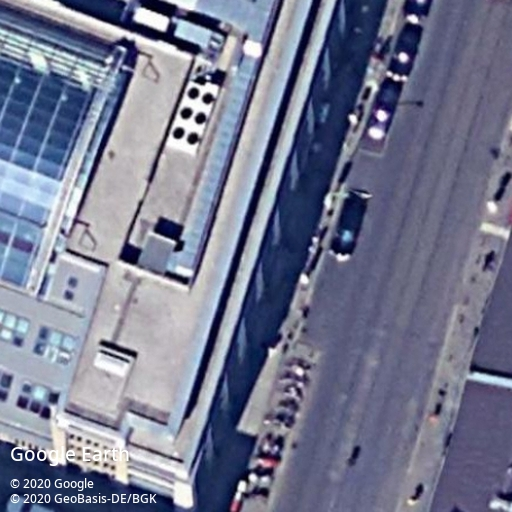Chiller: (164, 80, 220, 155)
